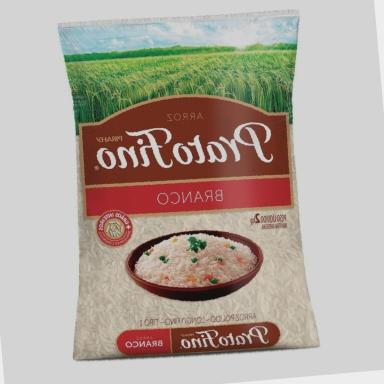rice package: (59, 11, 318, 359)
